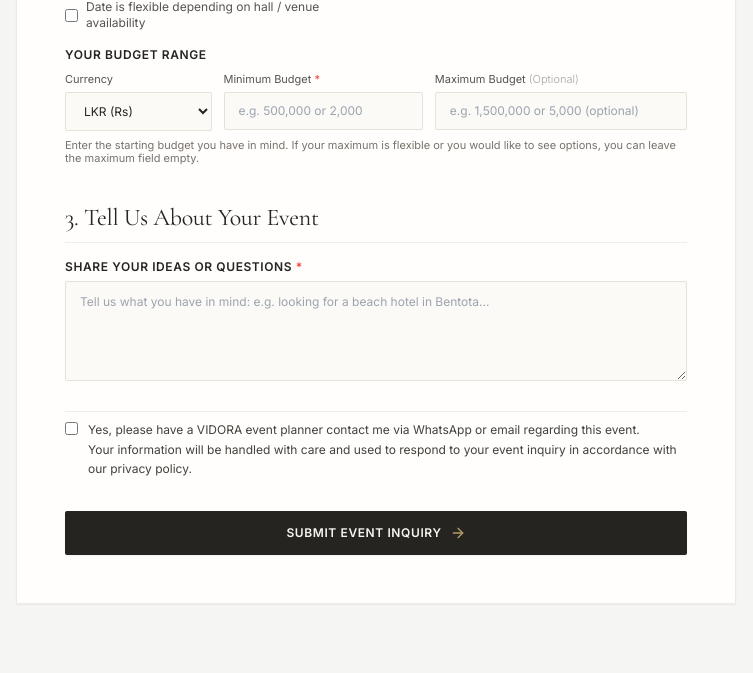
Test: InquiryPage — Sri Lanka Client Form › validates required fields before submitting
The image size is (753, 673).
(page scrolled)
Click the button "Submit Event Inquiry": (376,532) [65, 510, 687, 554]
(page scrolled)
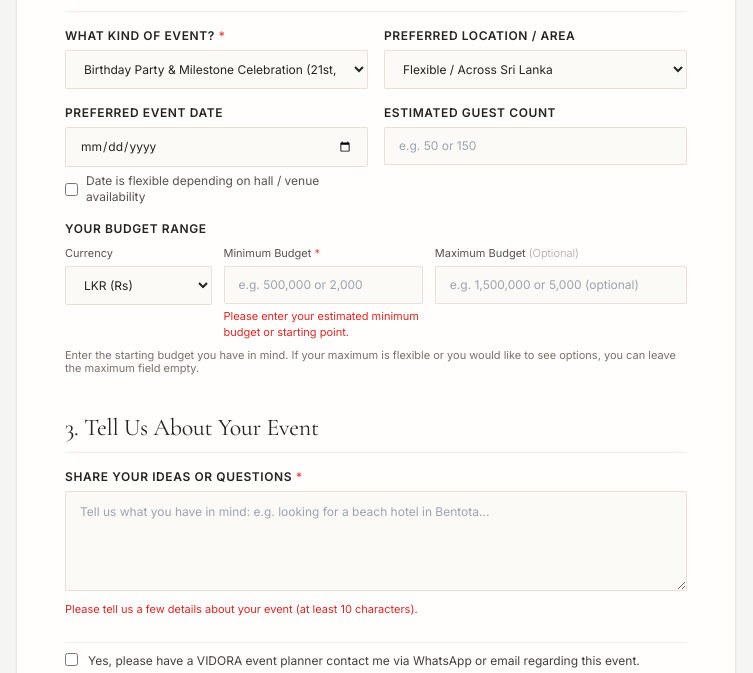
Now the text "Please enter your estimated minimum budget" is shown, box [224, 308, 419, 339]
